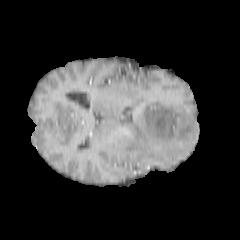glioma: (121, 107, 196, 171)
